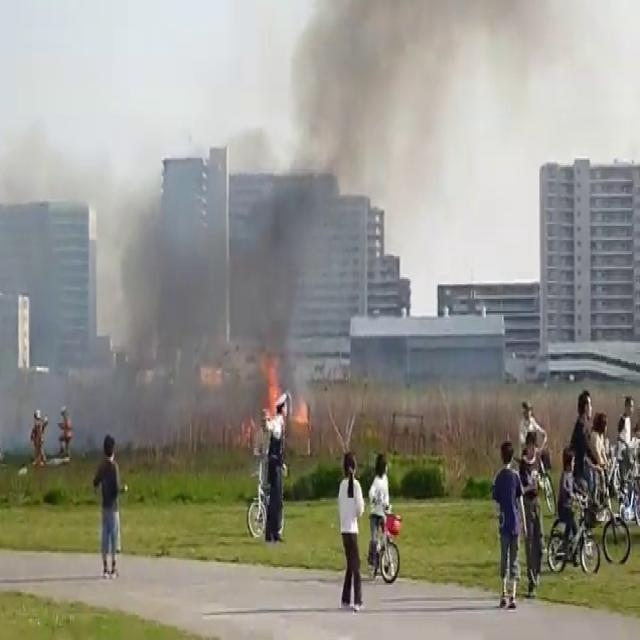Fire: (255, 351, 288, 429)
Smoke: (263, 0, 639, 242), (61, 130, 382, 380)
